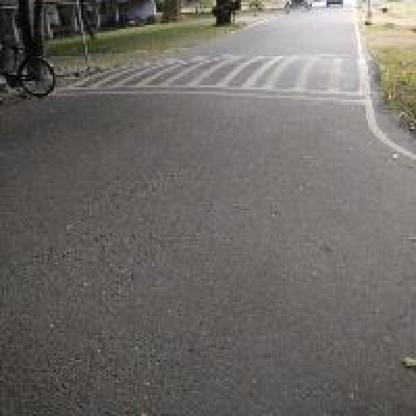Speed Bump: (58, 50, 372, 106)
